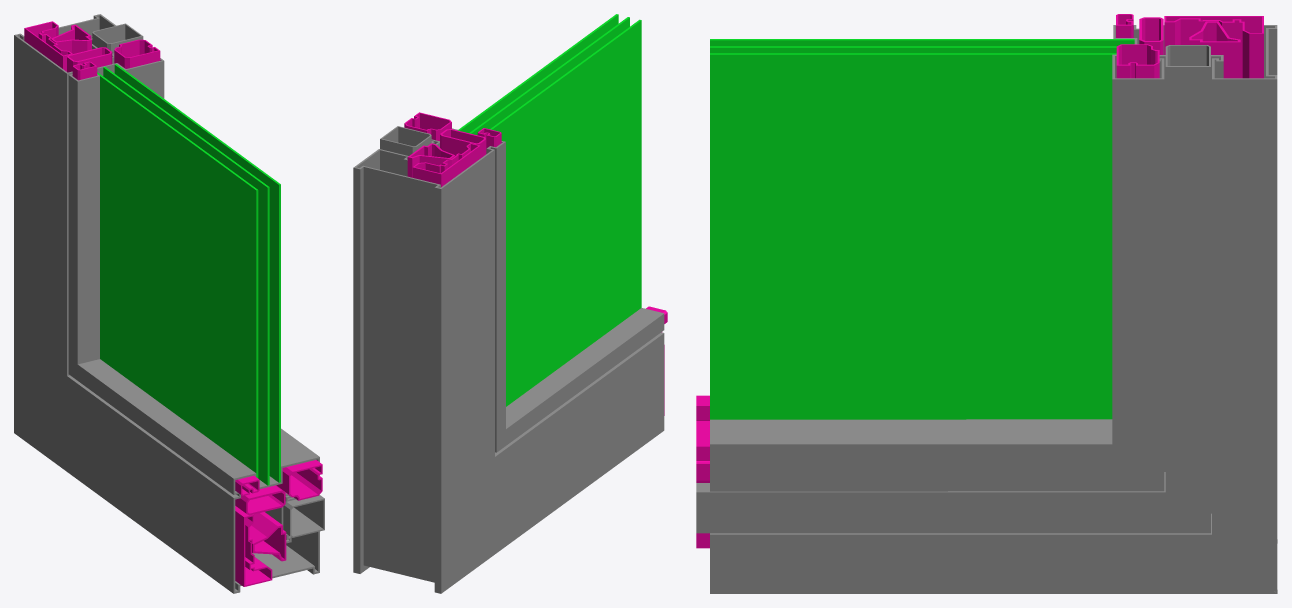
The model's file is 20220608_LT_Window_Cutthrough.FBX.
3 renders of one model, left to right at view 1: azimuth 30°, elevation 25°; view 2: azimuth 150°, elevation 25°; view 3: azimuth 270°, elevation 25°, orthographic. The views are drawn at different scales.
Visible parts, largest first — view 1: Line001, Box001; view 2: Line001, Box001; view 3: Line001, Box001.
Boxes of the visible parts, x1,y1,x2,y2 form: Line001: (14, 14, 324, 593); Box001: (97, 64, 280, 485); Line001: (353, 112, 667, 593); Box001: (457, 14, 641, 406); Line001: (696, 14, 1277, 593); Box001: (710, 39, 1134, 419).
Size of the model in its own units: 7.76 by 35.01 by 35.01.
